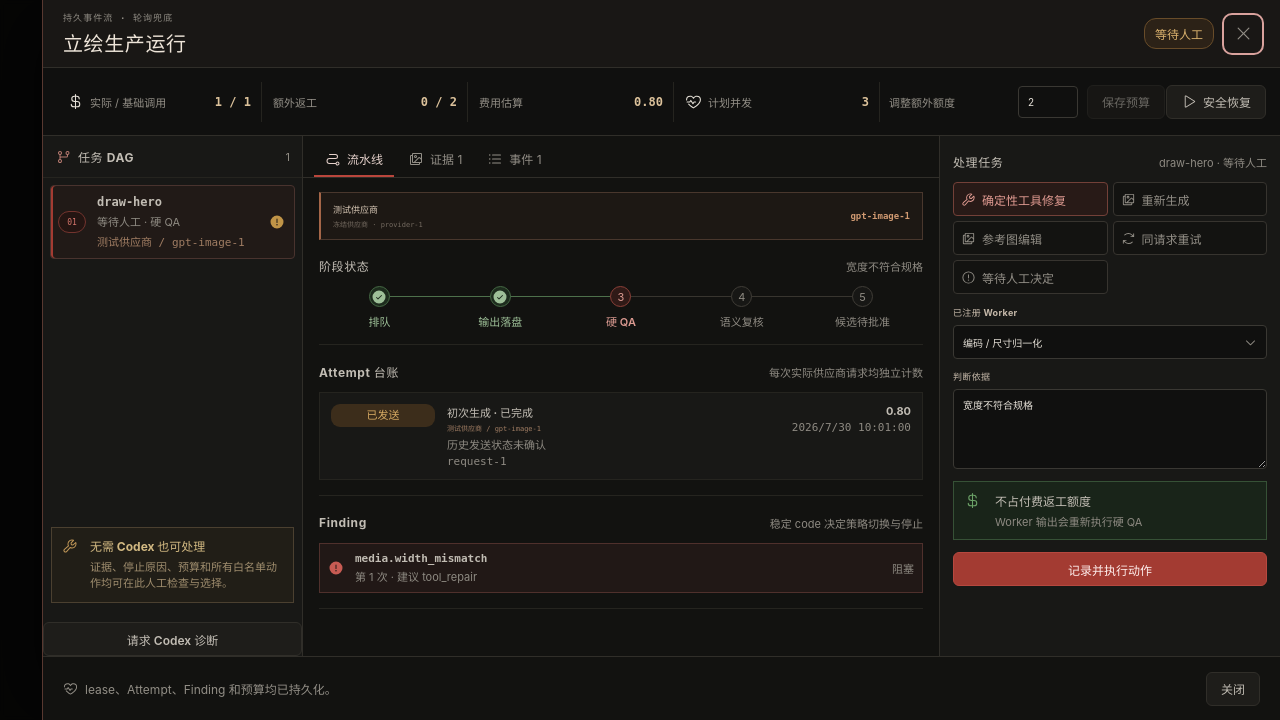
Test: M2 生产抽屉 › 展示持久证据并把人工 Worker 动作绑定到 Finding
Expected: the text "media.width_mismatch" is shown, left=355, top=552, right=488, bottom=565
Expected: the text "无需 Codex 也可处理" is shown, left=90, top=539, right=205, bottom=554
Click the tab "证据 1": click(435, 160) left=397, top=142, right=473, bottom=177
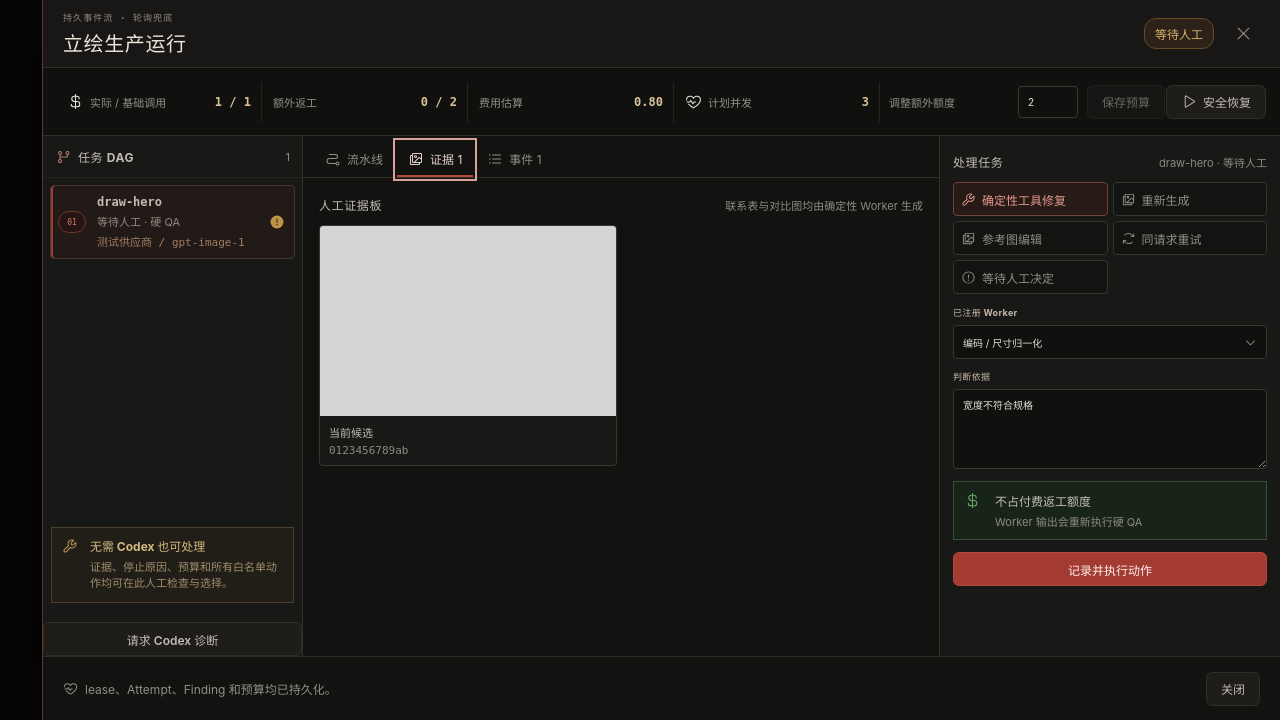
Click the button "记录并执行动作": click(1110, 569) left=953, top=552, right=1267, bottom=586
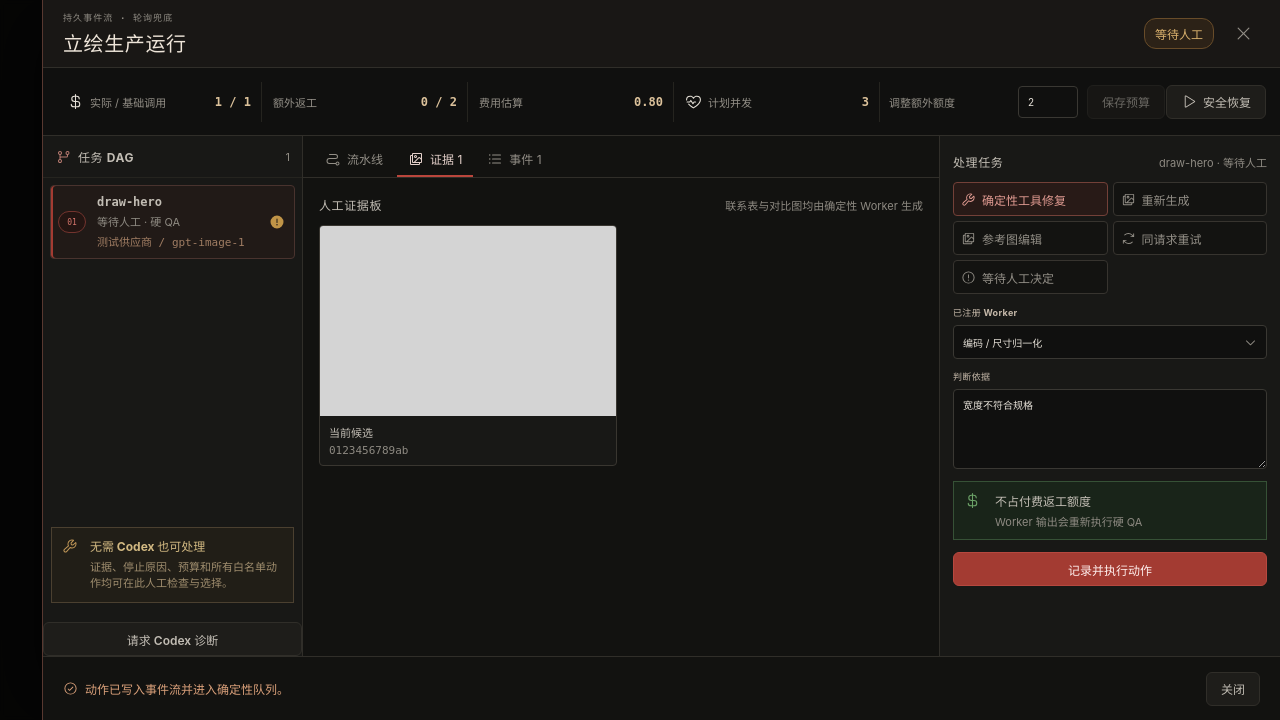
Result: the text "动作已写入事件流并进入确定性队列。" is shown at left=63, top=680, right=289, bottom=697
